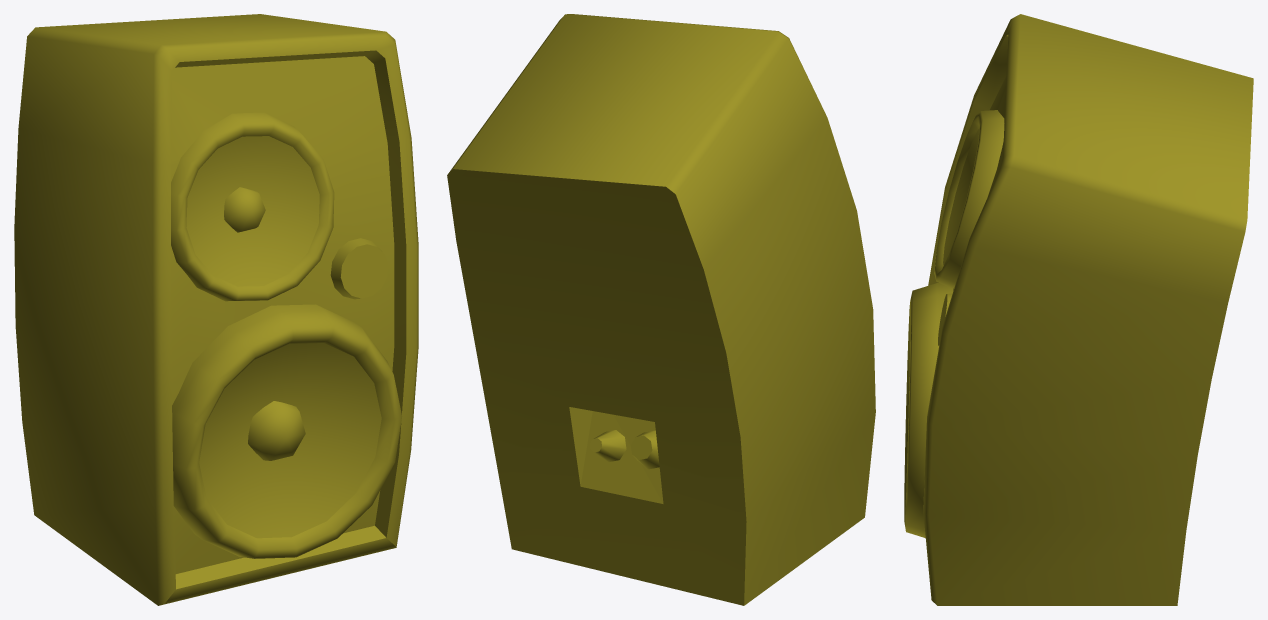
File: LoudSpeaker.FBX
The picture shows the model from 3 angles, left to right: view 1: azimuth 30°, elevation 25°; view 2: azimuth 150°, elevation 25°; view 3: azimuth 270°, elevation 25°; orthographic projection. The views are drawn at different scales.
Visible parts, largest first — view 1: Loudspeaker; view 2: Loudspeaker; view 3: Loudspeaker.
Boxes of the visible parts, left/top/right/bottom form: Loudspeaker: left=14, top=14, right=418, bottom=605; Loudspeaker: left=447, top=14, right=875, bottom=605; Loudspeaker: left=904, top=14, right=1253, bottom=605.
Size of the model in its own units: 113 by 198 by 125.
